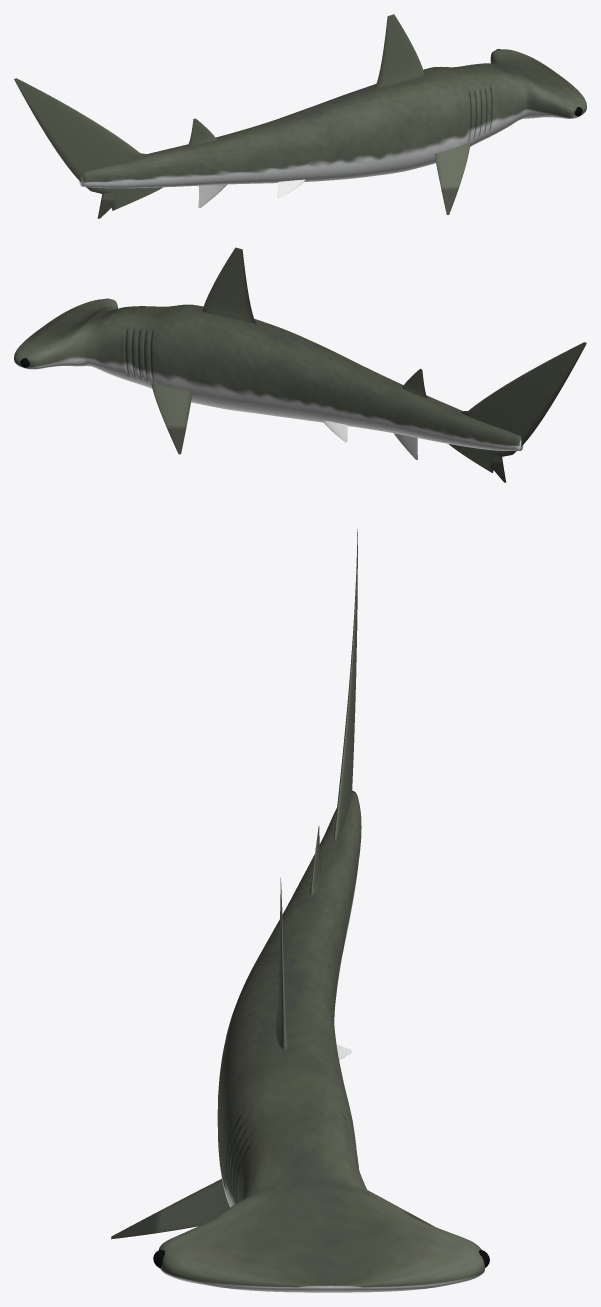
Rendered from smooth_hammerhead.glb.
3 renders of one model, top to bottom at view 1: azimuth 30°, elevation 25°; view 2: azimuth 150°, elevation 25°; view 3: azimuth 270°, elevation 25°, orthographic. The views are drawn at different scales.
Visible parts, largest first — view 1: SmoothHammerhead_Body, SmoothHammerhead_Fins; view 2: SmoothHammerhead_Body, SmoothHammerhead_Fins; view 3: SmoothHammerhead_Body, SmoothHammerhead_Fins.
Part boxes in pixels (x1=…): SmoothHammerhead_Body: x1=79, y1=49, x2=586, y2=188; SmoothHammerhead_Fins: x1=14, y1=14, x2=470, y2=218; SmoothHammerhead_Body: x1=14, y1=299, x2=523, y2=450; SmoothHammerhead_Fins: x1=151, y1=247, x2=586, y2=482; SmoothHammerhead_Body: x1=159, y1=790, x2=484, y2=1292; SmoothHammerhead_Fins: x1=111, y1=529, x2=434, y2=1239.
Bounding box in the file's own units: 3 × 0.9678 × 0.9109.
Materials: 3 (1 with a texture image).
